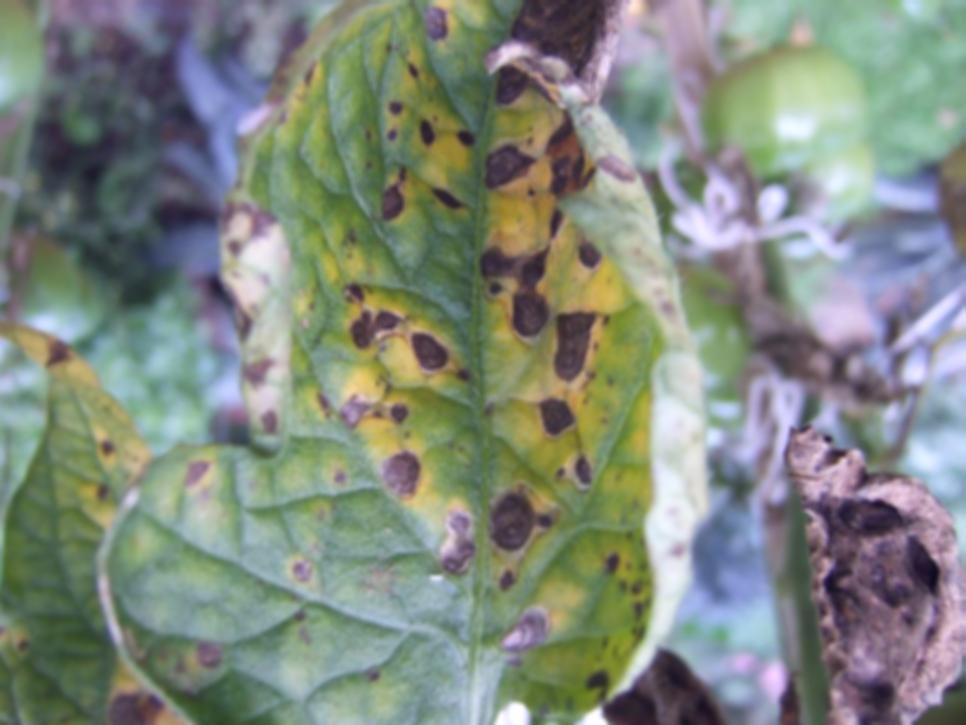Tomato Early blight leaf: (100, 13, 669, 716)
